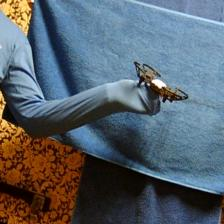drone: (134, 62, 190, 106)
